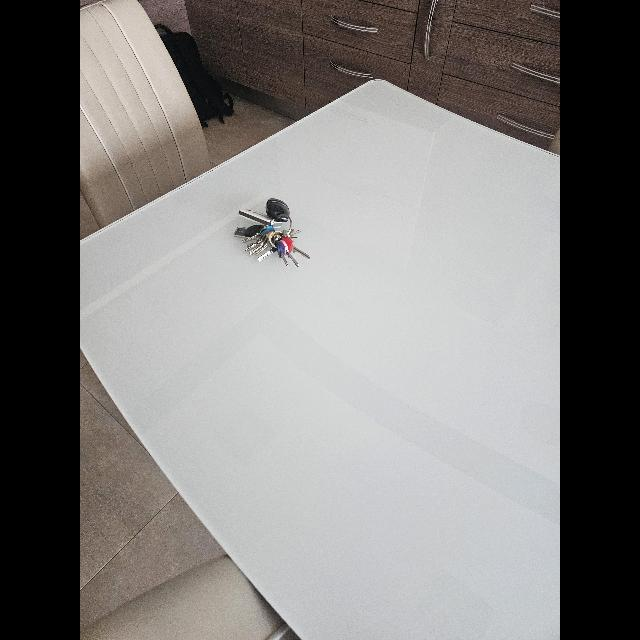Keys: (233, 198, 311, 268)
